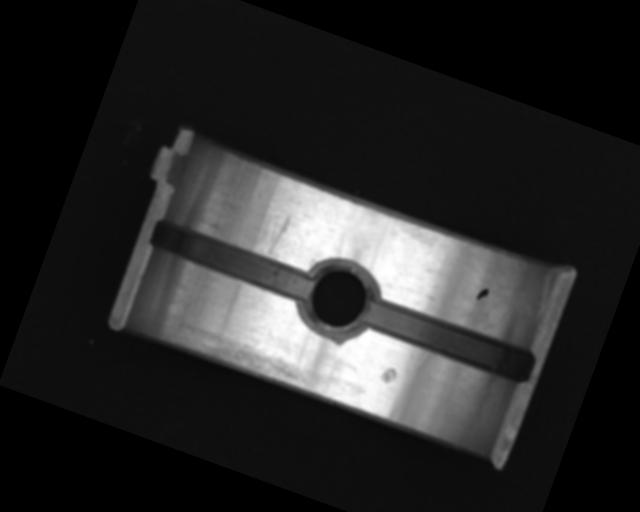blot: (474, 285, 490, 303)
bruise: (378, 363, 400, 386)
gap: (358, 293, 538, 387), (146, 216, 313, 304)
hole: (289, 248, 385, 348)
nick: (260, 209, 294, 262)
scratch: (162, 316, 322, 397)
